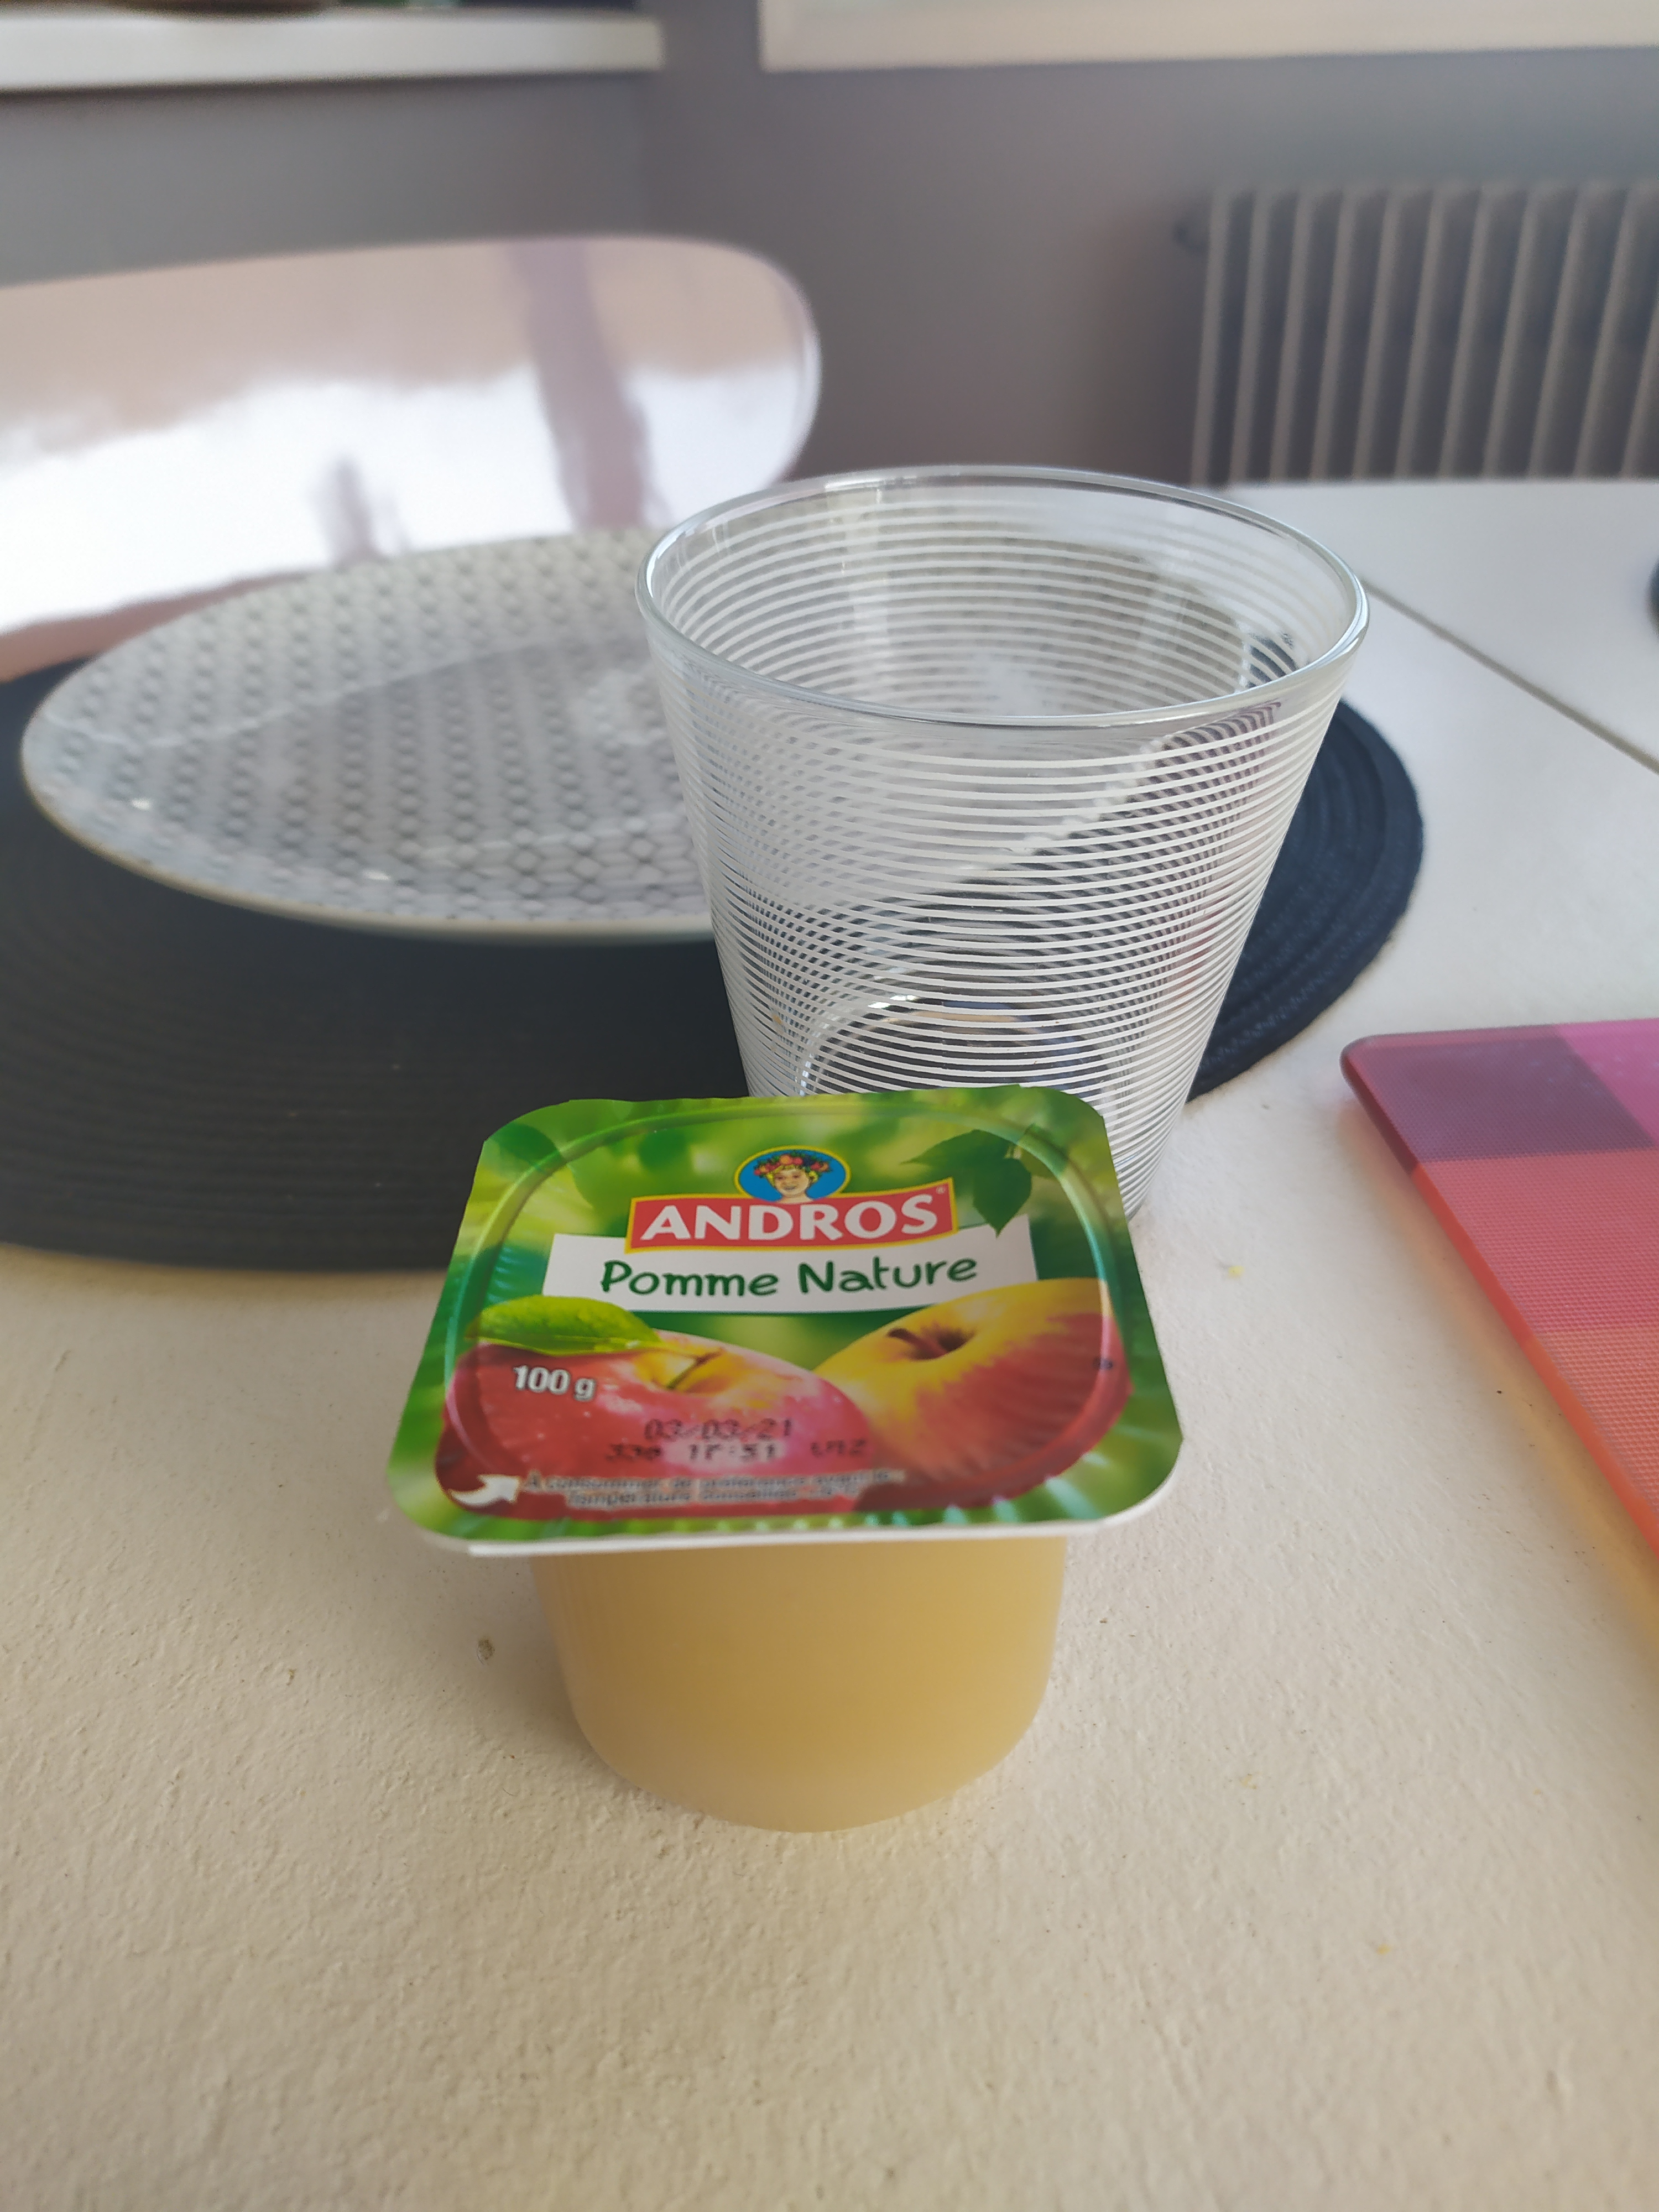compote: (385, 1101, 1187, 1839)
